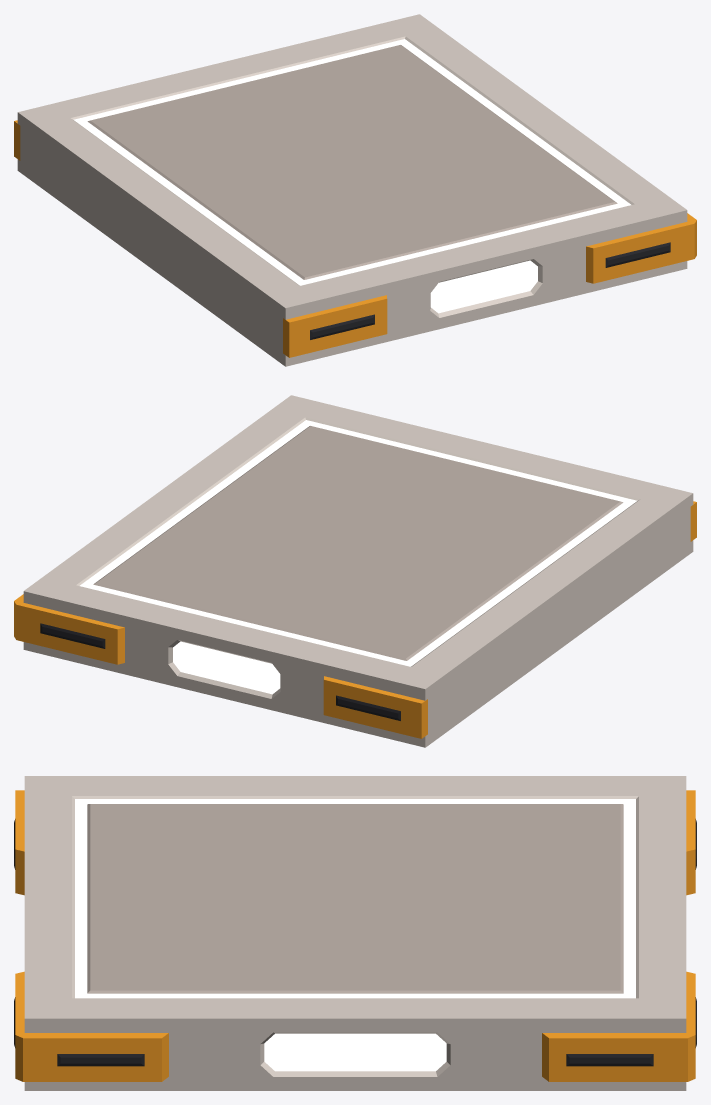
The model's file is SM_Kinchet_Table.glb.
3 renders of one model, top to bottom at view 1: azimuth 30°, elevation 25°; view 2: azimuth 150°, elevation 25°; view 3: azimuth 270°, elevation 25°, orthographic. The views are drawn at different scales.
Parts seen in each view (by area): view 1: SM_Kinchet_Table; view 2: SM_Kinchet_Table; view 3: SM_Kinchet_Table.
Part boxes in pixels (<box>): SM_Kinchet_Table: <box>14,14,696,366</box>; SM_Kinchet_Table: <box>14,395,696,747</box>; SM_Kinchet_Table: <box>14,776,696,1090</box>.
Bounding box in the file's own units: 1.33 × 0.181 × 1.55.
Materials: 2 (1 with a texture image).
